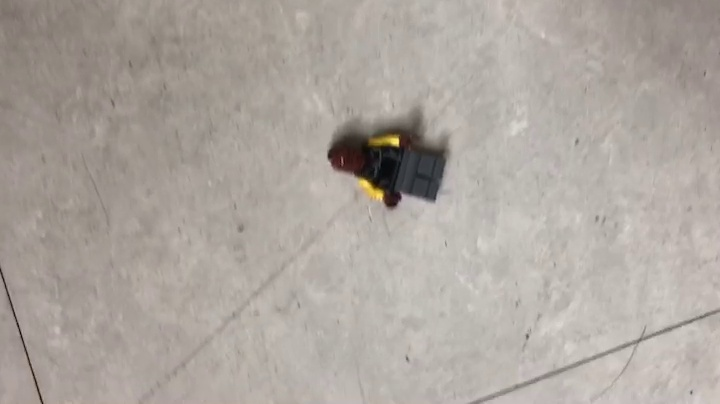people: (328, 131, 448, 211)
